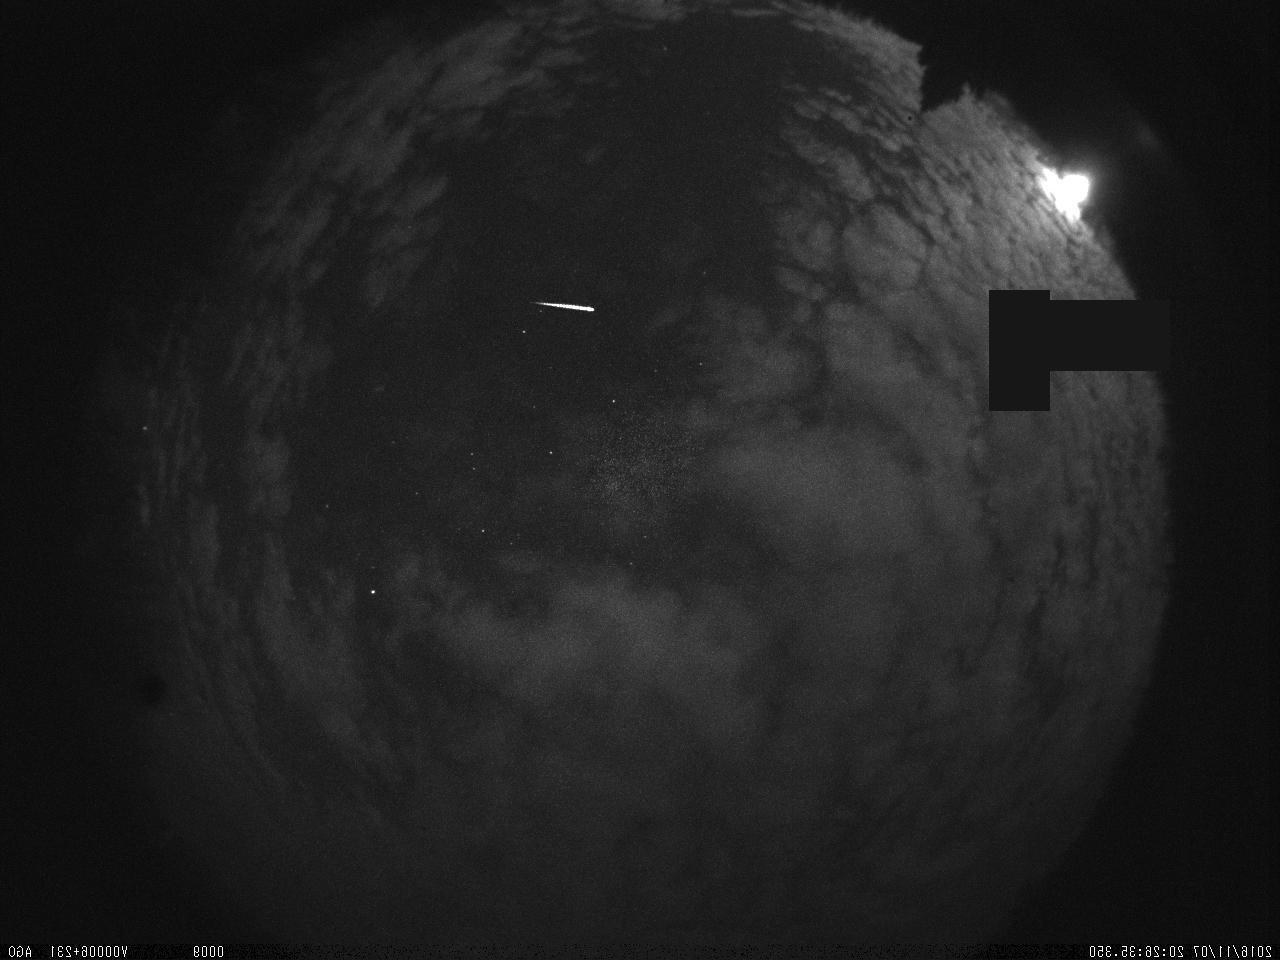meteor: (515, 280, 623, 327)
